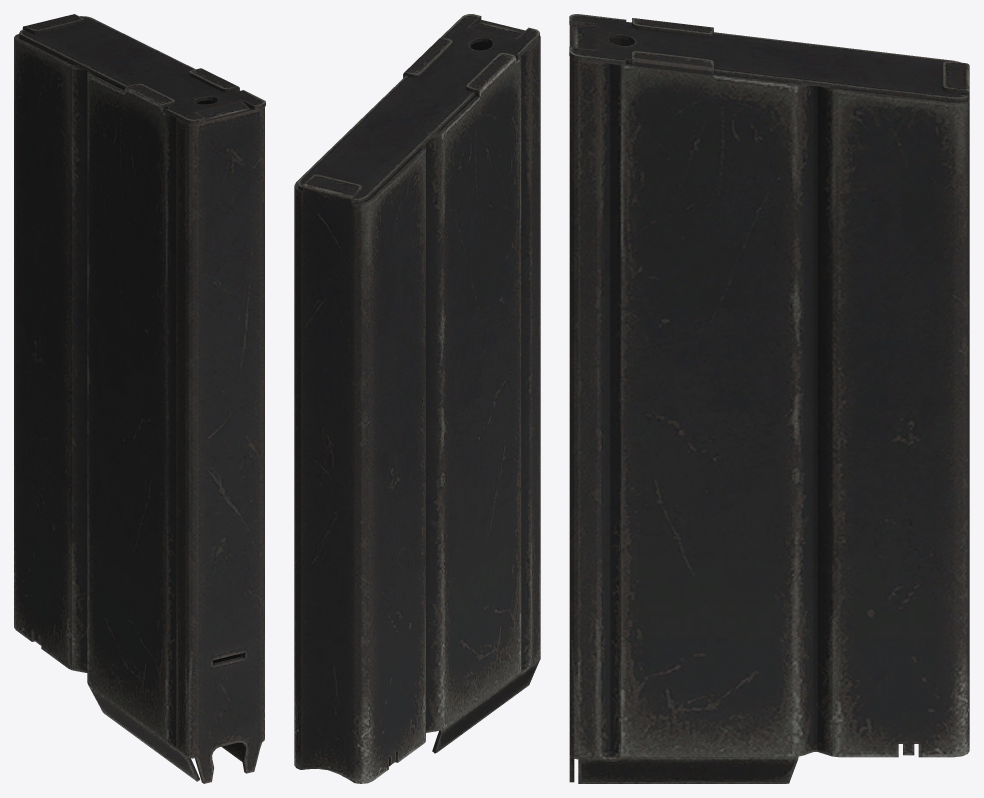
3 renders of one model, left to right at view 1: azimuth 30°, elevation 25°; view 2: azimuth 150°, elevation 25°; view 3: azimuth 270°, elevation 25°, orthographic. The views are drawn at different scales.
Parts seen in each view (by area): view 1: TW_5bfeaa0f0db834001b734927_PZ_Import; view 2: TW_5bfeaa0f0db834001b734927_PZ_Import; view 3: TW_5bfeaa0f0db834001b734927_PZ_Import.
Part boxes in pixels (x1=…): TW_5bfeaa0f0db834001b734927_PZ_Import: x1=14, y1=14, x2=265, y2=783; TW_5bfeaa0f0db834001b734927_PZ_Import: x1=294, y1=14, x2=540, y2=783; TW_5bfeaa0f0db834001b734927_PZ_Import: x1=569, y1=14, x2=969, y2=783.
Bounding box in the file's own units: 0.0111 × 0.0441 × 0.0894.
1 material, 1 textured.
